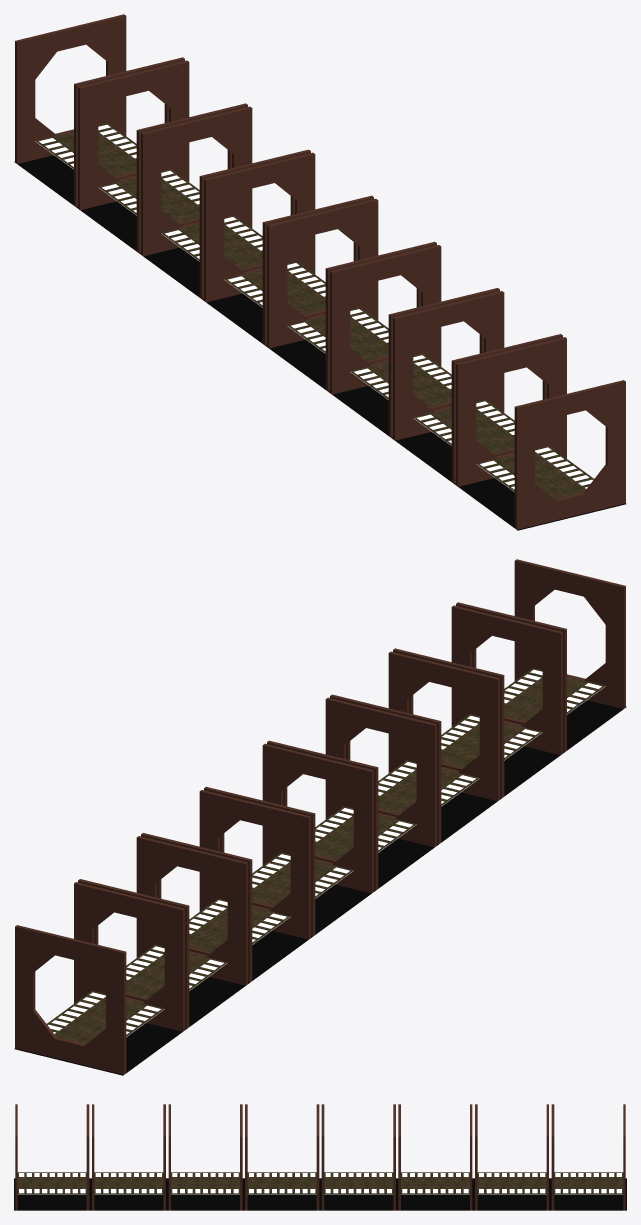
Rendered from spaceship.glb.
3 renders of one model, top to bottom at view 1: azimuth 30°, elevation 25°; view 2: azimuth 150°, elevation 25°; view 3: azimuth 270°, elevation 25°, orthographic. The views are drawn at different scales.
Visible parts, largest first — view 1: Cube.016, Cube.015, Cube.001, Cube.003, Cube.011, Cube.010, Cube.008, Cube.013, Cube.006, Plane.007, Plane.003, Plane.006 (+36 smaller); view 2: Cube.011, Cube.012, Cube.005, Cube.007, Cube.016, Cube.004, Cube.009, Cube.014, Cube.002, Plane.005, Plane.001, Plane.004 (+36 smaller); view 3: Plane.004, Plane.005, Plane.006, Plane.007, Plane.001, Plane.003, Plane, Plane.002, ribbed metal floor, ribbed metal floor.001, ribbed metal floor.004, ribbed metal floor.005 (+36 smaller).
Part boxes in pixels (x1=…): Cube.016: x1=514, y1=380, x2=625, y2=529; Cube.015: x1=456, y1=337, x2=566, y2=486; Cube.001: x1=141, y1=106, x2=252, y2=256; Cube.003: x1=267, y1=198, x2=378, y2=348; Cube.011: x1=15, y1=14, x2=126, y2=163; Cube.010: x1=204, y1=152, x2=315, y2=302; Cube.008: x1=78, y1=60, x2=189, y2=210; Cube.013: x1=393, y1=291, x2=504, y2=440; Cube.006: x1=330, y1=245, x2=441, y2=394; Plane.007: x1=455, y1=478, x2=626, y2=530; Plane.003: x1=329, y1=386, x2=392, y2=438; Plane.006: x1=392, y1=432, x2=455, y2=484; Cube.011: x1=15, y1=925, x2=126, y2=1074; Cube.012: x1=74, y1=882, x2=184, y2=1031; Cube.005: x1=262, y1=743, x2=373, y2=893; Cube.007: x1=388, y1=651, x2=499, y2=801; Cube.016: x1=514, y1=559, x2=625, y2=708; Cube.004: x1=325, y1=697, x2=436, y2=847; Cube.009: x1=136, y1=836, x2=247, y2=985; Cube.014: x1=451, y1=605, x2=562, y2=755; Cube.002: x1=199, y1=790, x2=310, y2=939; Plane.005: x1=14, y1=1023, x2=185, y2=1075; Plane.001: x1=248, y1=931, x2=311, y2=983; Plane.004: x1=185, y1=977, x2=248, y2=1029; Plane.004: x1=473, y1=1178, x2=550, y2=1210; Plane.005: x1=550, y1=1178, x2=626, y2=1210; Plane.006: x1=90, y1=1178, x2=167, y2=1210; Plane.007: x1=14, y1=1178, x2=90, y2=1210; Plane.001: x1=397, y1=1178, x2=473, y2=1210; Plane.003: x1=167, y1=1178, x2=243, y2=1210; Plane: x1=320, y1=1178, x2=396, y2=1210; Plane.002: x1=244, y1=1178, x2=320, y2=1210; ribbed metal floor: x1=324, y1=1183, x2=393, y2=1193; ribbed metal floor.001: x1=324, y1=1172, x2=393, y2=1182; ribbed metal floor.004: x1=247, y1=1172, x2=316, y2=1182; ribbed metal floor.005: x1=247, y1=1183, x2=316, y2=1193.
Size of the model in its own units: 3 by 3.2 by 24.
19 materials, 1 textured.
